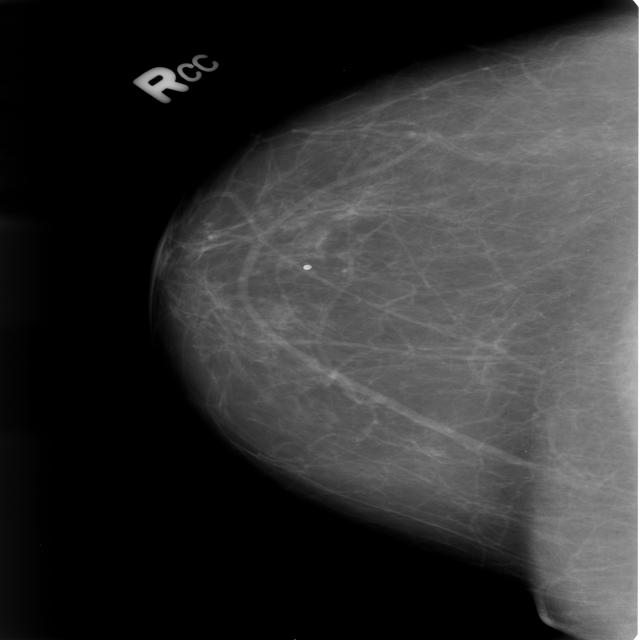normal: (150, 27, 640, 559)
